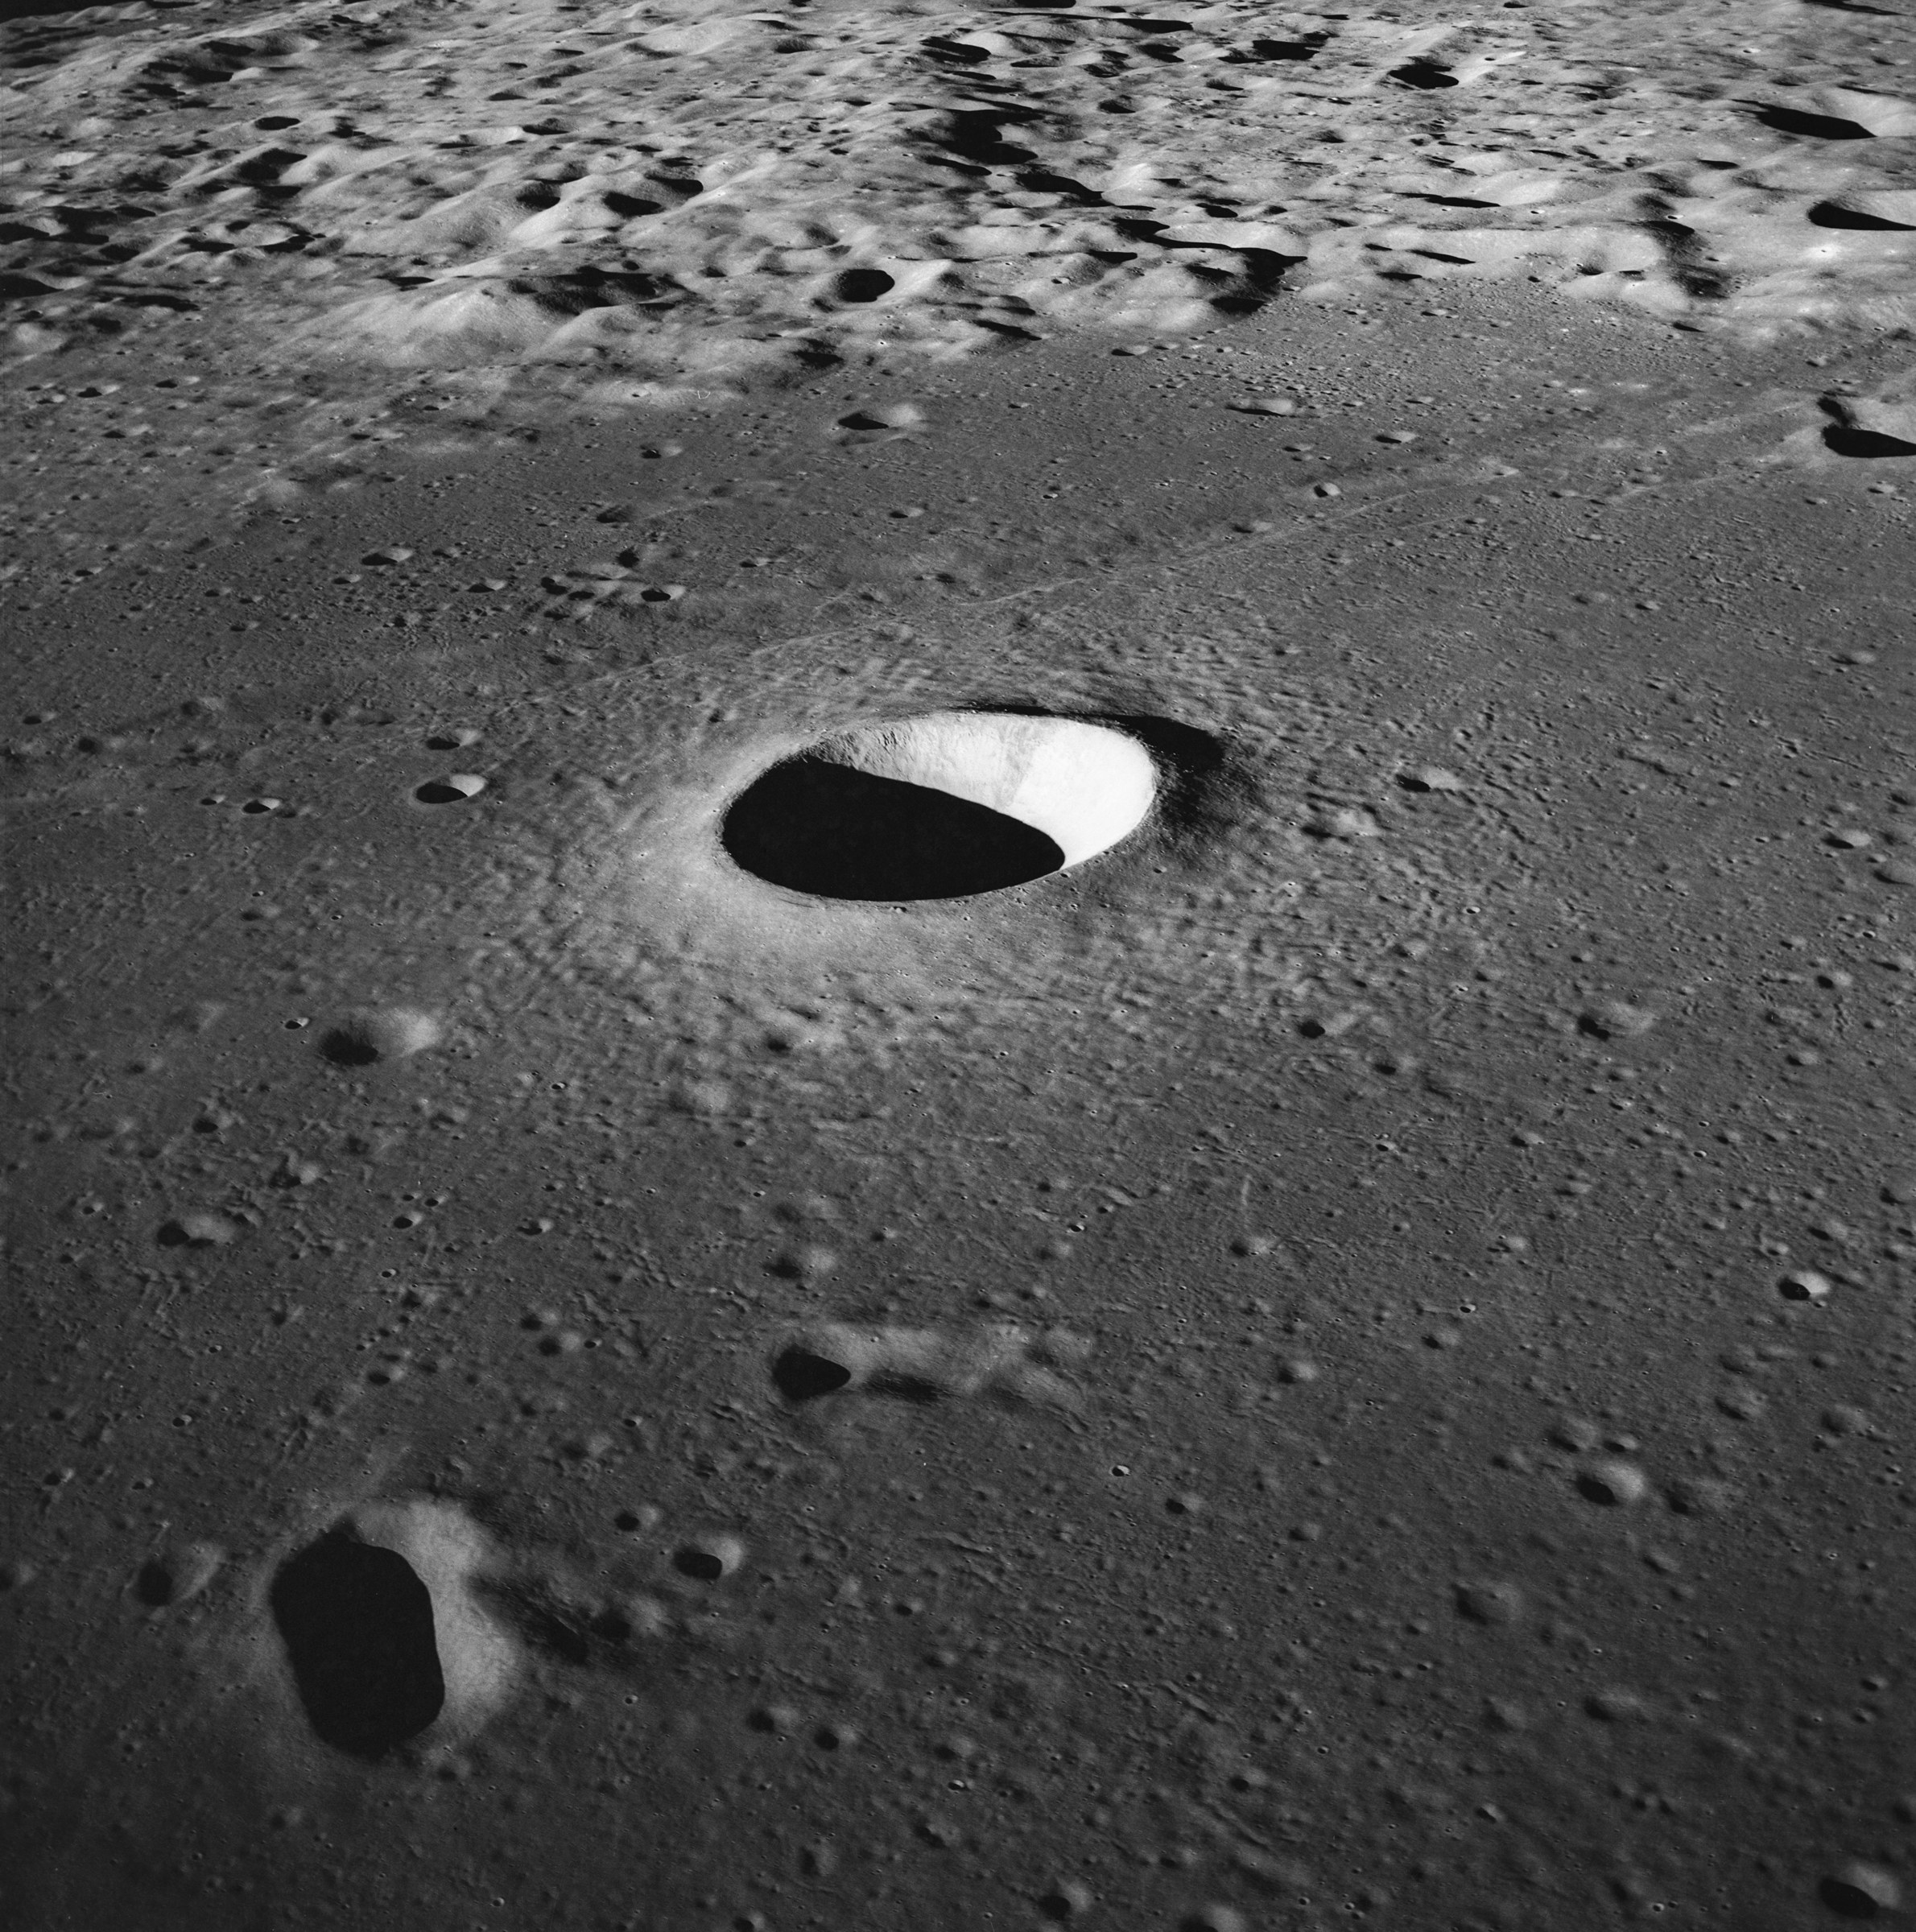crater: (618, 625, 1346, 1093)
